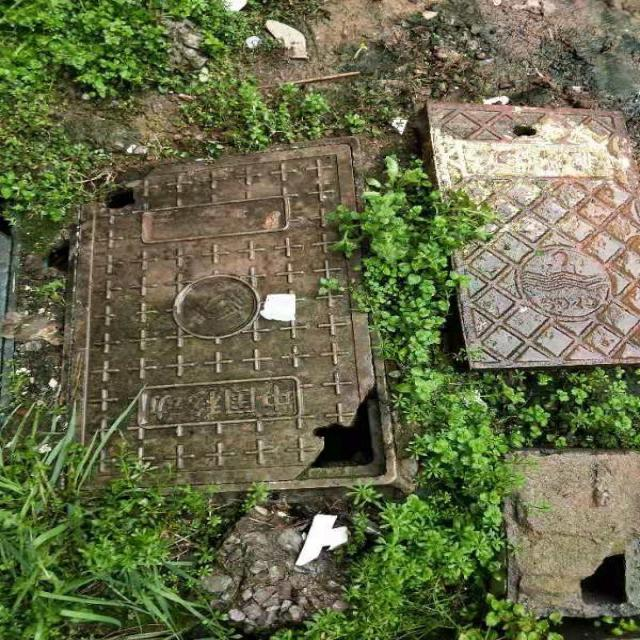Broken: (71, 135, 397, 495)
